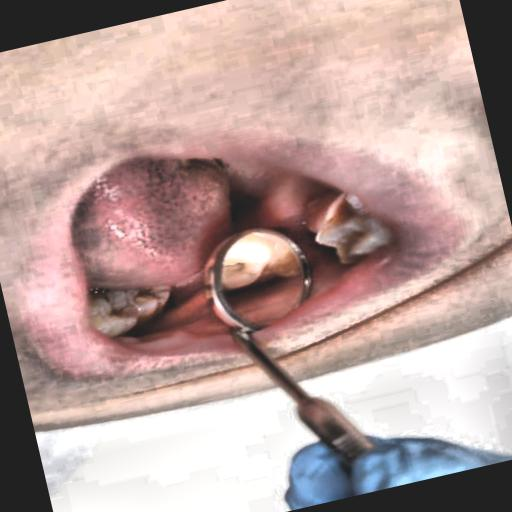Caries: (291, 172, 407, 289)
